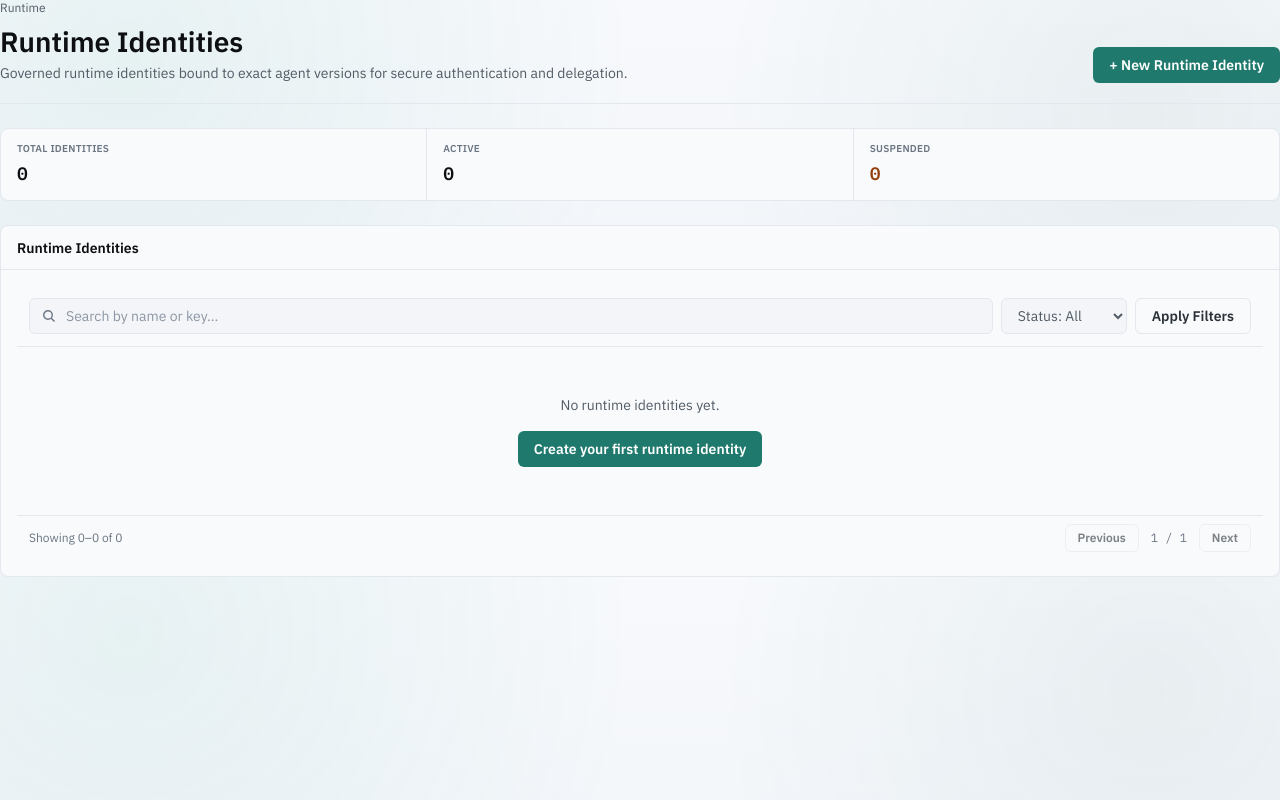
RuntimeIdentitiesPage › shows create form when button clicked
What coordinates should you click on to do the following:
click the button "+ New Runtime Identity"
I would click on:
 (1187, 65)
Its box is [1093,47,1279,83].
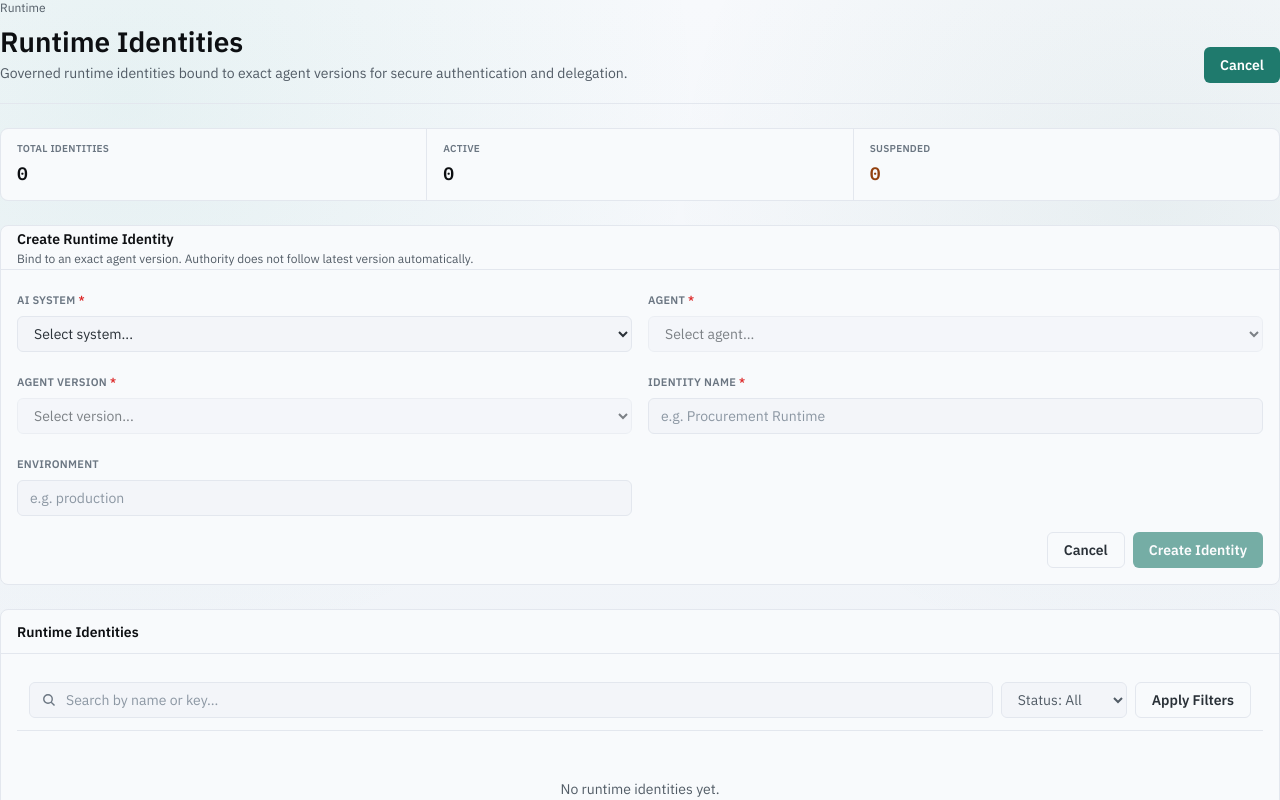
Expected: the heading "Create Runtime Identity" is shown, [17,230,174,248]
